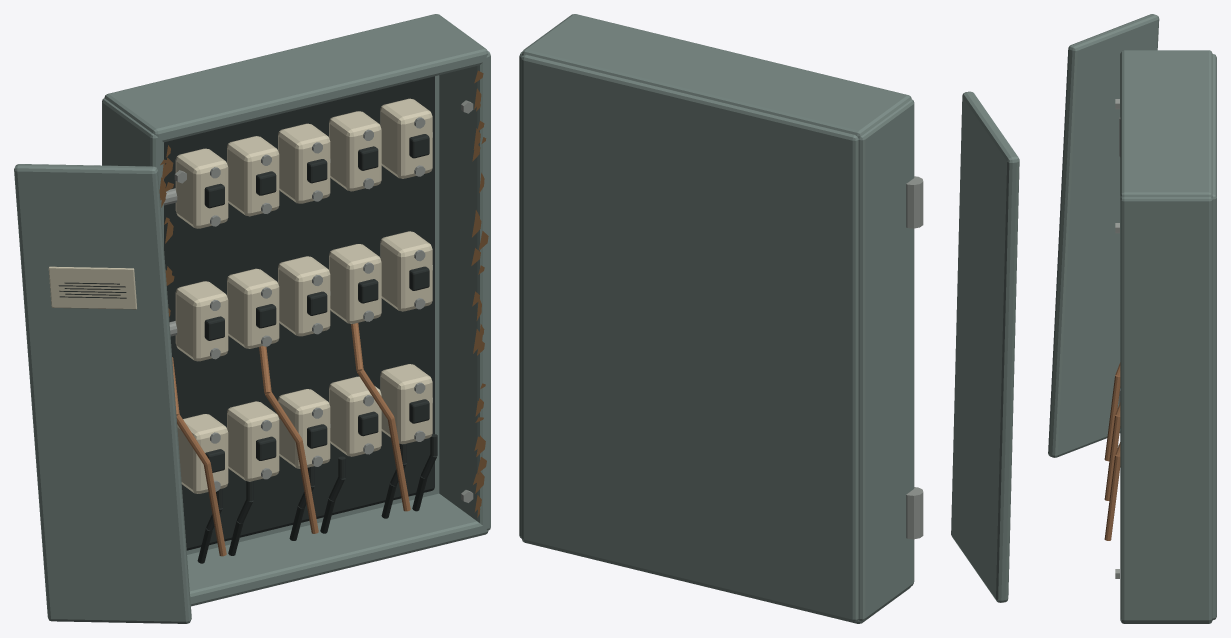
The model's file is harbor-accident-cassette.glb.
3 renders of one model, left to right at view 1: azimuth 30°, elevation 25°; view 2: azimuth 150°, elevation 25°; view 3: azimuth 270°, elevation 25°, orthographic. The views are drawn at different scales.
Visible parts, largest first — view 1: hanging inspection door, dark recessed cavity, folded cabinet cheek.001, folded cabinet cap.001, folded cabinet cap, service serial plaque, aged ceramic fuse.005, aged ceramic fuse.009, aged ceramic fuse.014, aged ceramic fuse.008, aged ceramic fuse.012, aged ceramic fuse.013 (+14 smaller); view 2: backplate, hanging inspection door, folded cabinet cheek, folded cabinet cap.001, folded cabinet cheek.001, hinge barrel.001, hinge barrel; view 3: folded cabinet cheek.001, hanging inspection door, folded cabinet cap.001, backplate, dislodged insulated lead.020, dislodged insulated lead.002, dislodged insulated lead.011.
Part boxes in pixels (bbox=[...]): hanging inspection door: bbox=[14, 164, 191, 623]; dark recessed cavity: bbox=[164, 76, 434, 550]; folded cabinet cheek.001: bbox=[439, 51, 490, 530]; folded cabinet cap.001: bbox=[104, 14, 488, 142]; folded cabinet cap: bbox=[187, 493, 488, 606]; service serial plaque: bbox=[48, 266, 136, 309]; aged ceramic fuse.005: bbox=[175, 281, 228, 361]; aged ceramic fuse.009: bbox=[380, 231, 432, 311]; aged ceramic fuse.014: bbox=[380, 98, 432, 178]; aged ceramic fuse.008: bbox=[329, 244, 381, 323]; aged ceramic fuse.012: bbox=[278, 123, 330, 203]; aged ceramic fuse.013: bbox=[329, 111, 381, 191]; backplate: bbox=[521, 54, 858, 621]; hanging inspection door: bbox=[951, 91, 1019, 602]; folded cabinet cheek: bbox=[858, 99, 914, 621]; folded cabinet cap.001: bbox=[522, 14, 911, 137]; folded cabinet cheek.001: bbox=[519, 51, 522, 538]; hinge barrel.001: bbox=[906, 176, 923, 228]; hinge barrel: bbox=[906, 487, 923, 539]; folded cabinet cheek.001: bbox=[1120, 197, 1212, 622]; hanging inspection door: bbox=[1048, 14, 1159, 457]; folded cabinet cap.001: bbox=[1120, 50, 1212, 198]; backplate: bbox=[1212, 54, 1216, 620]; dislodged insulated lead.020: bbox=[1104, 455, 1120, 540]; dislodged insulated lead.002: bbox=[1104, 375, 1120, 461]; dislodged insulated lead.011: bbox=[1104, 415, 1120, 500].
Bounding box in the file's own units: 2.25 × 2.27 × 0.8052.
